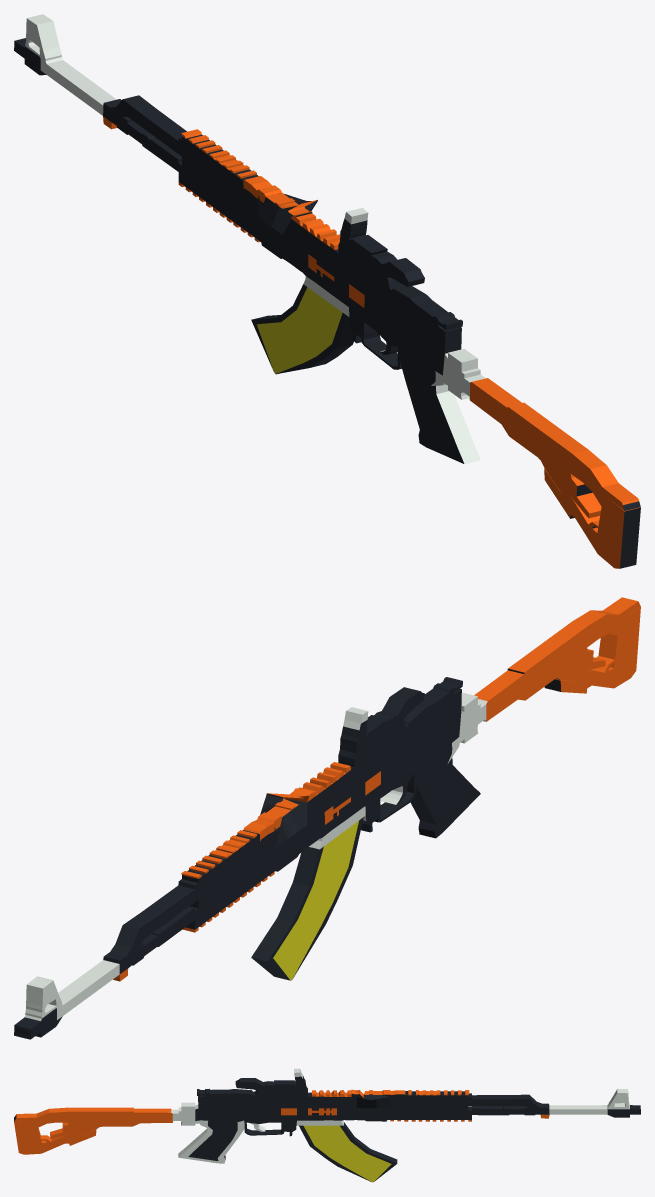
3 views of the same model, one above another, from view 1: azimuth 30°, elevation 25°; view 2: azimuth 150°, elevation 25°; view 3: azimuth 270°, elevation 25° (orthographic). The views are drawn at different scales.
Visible parts, largest first — view 1: Cube; view 2: Cube; view 3: Cube.
Part boxes in pixels (x1,y1,x2,y2): Cube: (14, 14, 640, 568); Cube: (14, 597, 640, 1039); Cube: (14, 1068, 640, 1182).
Bounding box in the file's own units: 9.71 × 58.43 × 302.
